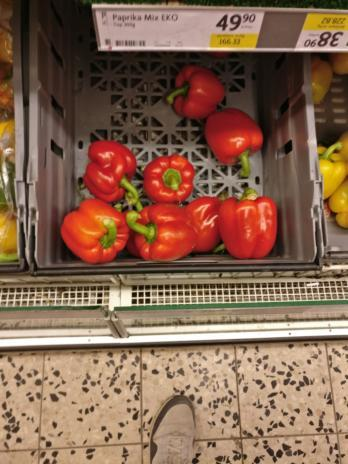Capsicum: (61, 196, 284, 262), (165, 62, 273, 164), (85, 135, 196, 214)
